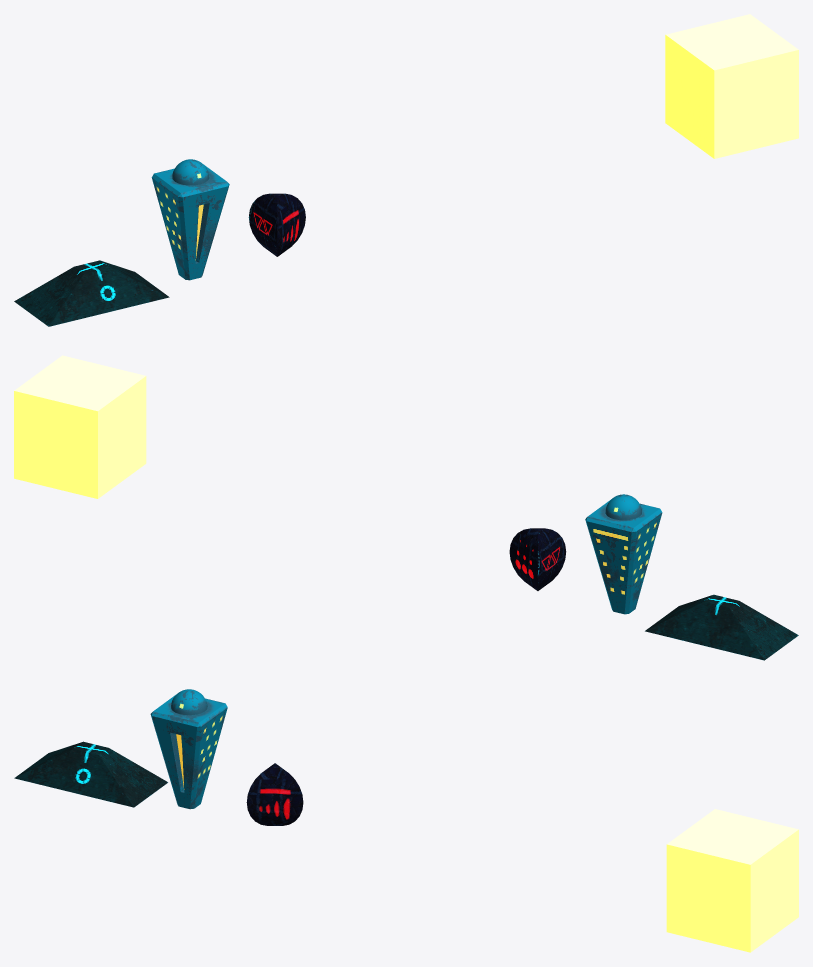
3 views of the same model, one above another, from view 1: azimuth 30°, elevation 25°; view 2: azimuth 150°, elevation 25°; view 3: azimuth 330°, elevation 25° (orthographic).
Visible parts, largest first — view 1: Cube, pCube2, group1 pCube1, pSphere2, pSphere1 group1; view 2: Cube, pCube2, group1 pCube1, pSphere2, pSphere1 group1; view 3: Cube, pCube2, group1 pCube1, pSphere2, pSphere1 group1.
Part boxes in pixels (box(x1,y1,x2,y2)): Cube: box(665, 14, 798, 158); pCube2: box(14, 260, 169, 326); group1 pCube1: box(151, 164, 229, 280); pSphere2: box(248, 193, 305, 256); pSphere1 group1: box(172, 159, 209, 185); Cube: box(14, 355, 146, 498); pCube2: box(645, 594, 798, 660); group1 pCube1: box(585, 499, 662, 614); pSphere2: box(509, 528, 566, 590); pSphere1 group1: box(605, 494, 641, 520); Cube: box(666, 809, 798, 952); pCube2: box(14, 741, 167, 807); group1 pCube1: box(150, 694, 227, 809); pSphere2: box(246, 763, 303, 825); pSphere1 group1: box(171, 689, 207, 715).
Bounding box in the file's own units: 247 × 36.11 × 27.99.
Materials: 2 (1 with a texture image).
